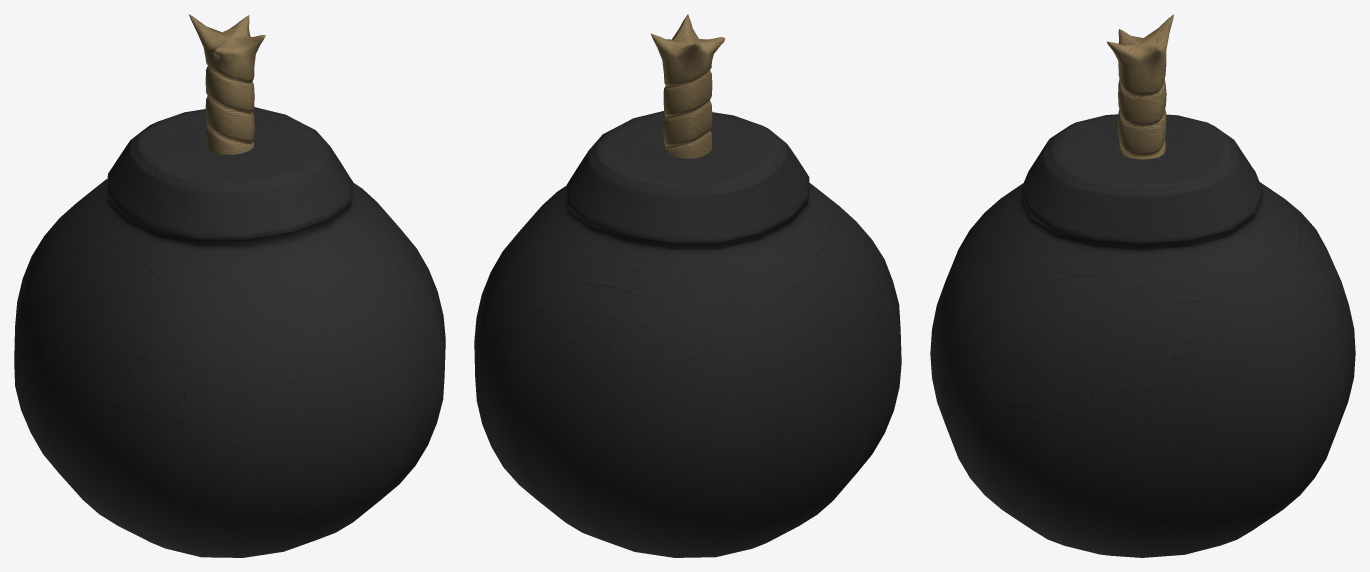
The model's file is bomb.obj.
3 renders of one model, left to right at view 1: azimuth 30°, elevation 25°; view 2: azimuth 150°, elevation 25°; view 3: azimuth 270°, elevation 25°, orthographic.
Parts seen in each view (by area): view 1: Bomb_Low_Plane.003; view 2: Bomb_Low_Plane.003; view 3: Bomb_Low_Plane.003.
Part boxes in pixels (box(x1,y1,x2,y2)): Bomb_Low_Plane.003: box(14, 14, 445, 557); Bomb_Low_Plane.003: box(474, 14, 901, 557); Bomb_Low_Plane.003: box(930, 14, 1355, 557).
Size of the model in its own units: 0.2601 by 0.3465 by 0.2615.
Materials: 1 (1 with a texture image).
